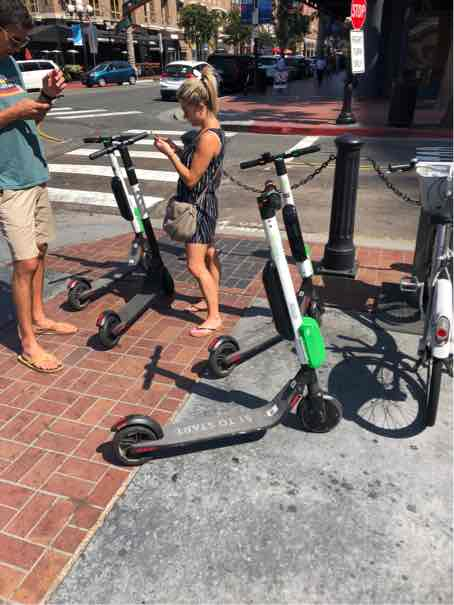scooter: (106, 143, 341, 460), (64, 132, 174, 345)
